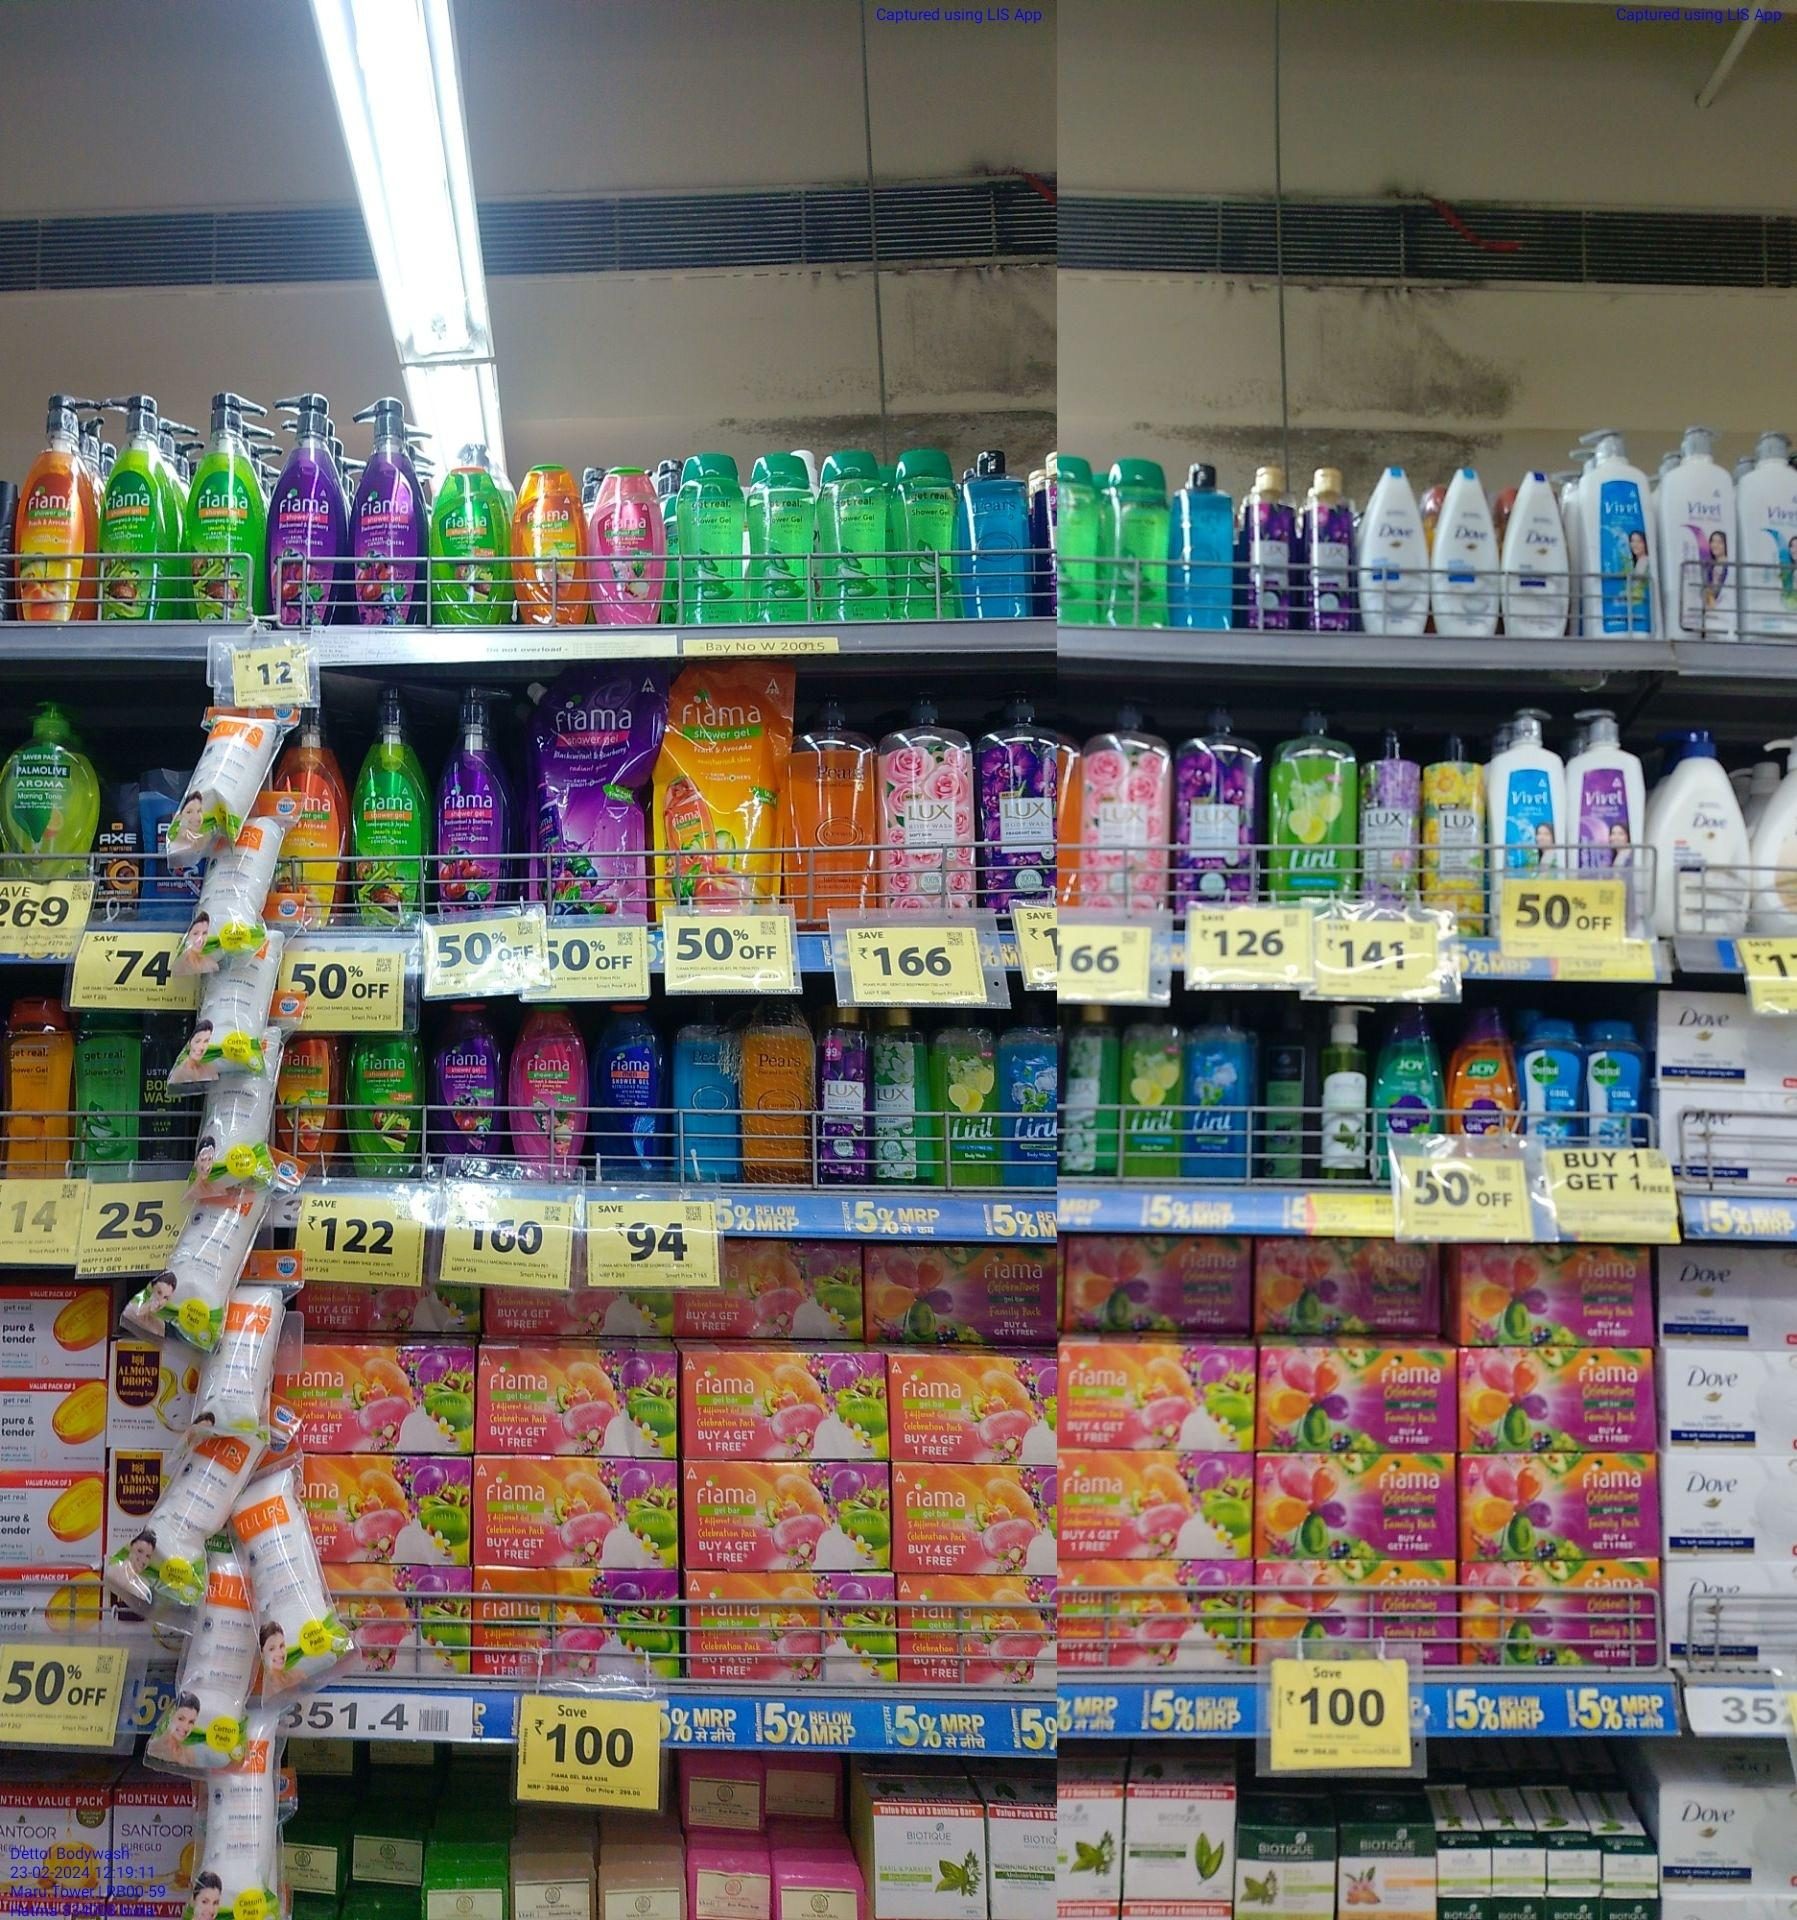Dettol_Bodywash_Cool: (1513, 1013, 1586, 1148), (1584, 1020, 1642, 1143)
Dove_Deep_Moisture_Body_Wash_250ML: (1501, 468, 1567, 640)
Dove_Gentle_Exfoliating_Body_Wash_250ML: (1365, 466, 1434, 637), (1432, 464, 1500, 635)
Fiama_Shower_Gel_Lemongrass_and_Jojoba_250ML: (427, 463, 505, 623), (346, 1027, 421, 1175)
Fiama_Shower_Gel_Patchouli_and_Macadamia_250ML: (589, 463, 667, 623), (510, 1012, 578, 1170)
Fiama_Shower_Gel_Peach_and_Avocado_250ML: (510, 461, 589, 625)
Get_Real_Shower_Gel_Moisturising_Glycerin_300ML: (7, 993, 73, 1177)
Joy_Shower_Gel_Mandarin_and_Lemongrass_250ML: (1449, 1006, 1510, 1131)
Joy_Shower_Gel_Mint_and_Eucalyptus_250ML: (1373, 1006, 1441, 1177)
Liril_Cooling_Mint_Body_Wash_250ML: (1182, 998, 1251, 1177), (1005, 1001, 1059, 1184)
Liril_Lime_and_Tea_Tree_Oil_Body_Wash_250ML: (937, 1005, 1002, 1187), (1125, 1003, 1182, 1179)
Lux_Black_Orchid_Scent_and_Juniper_Oil_Body_Wash_245ML: (1235, 463, 1299, 630), (1297, 466, 1363, 628), (812, 1005, 871, 1180)
Lux_Body_Wash_Skin_Detox_Freesia_Scent_and_Alove_Vera_245ML: (875, 1008, 934, 1185), (1067, 1003, 1118, 1174)
Pears_Pure_Glycerin_and_Mint_Extracts_Body_Wash_250ML: (670, 1003, 736, 1180)
